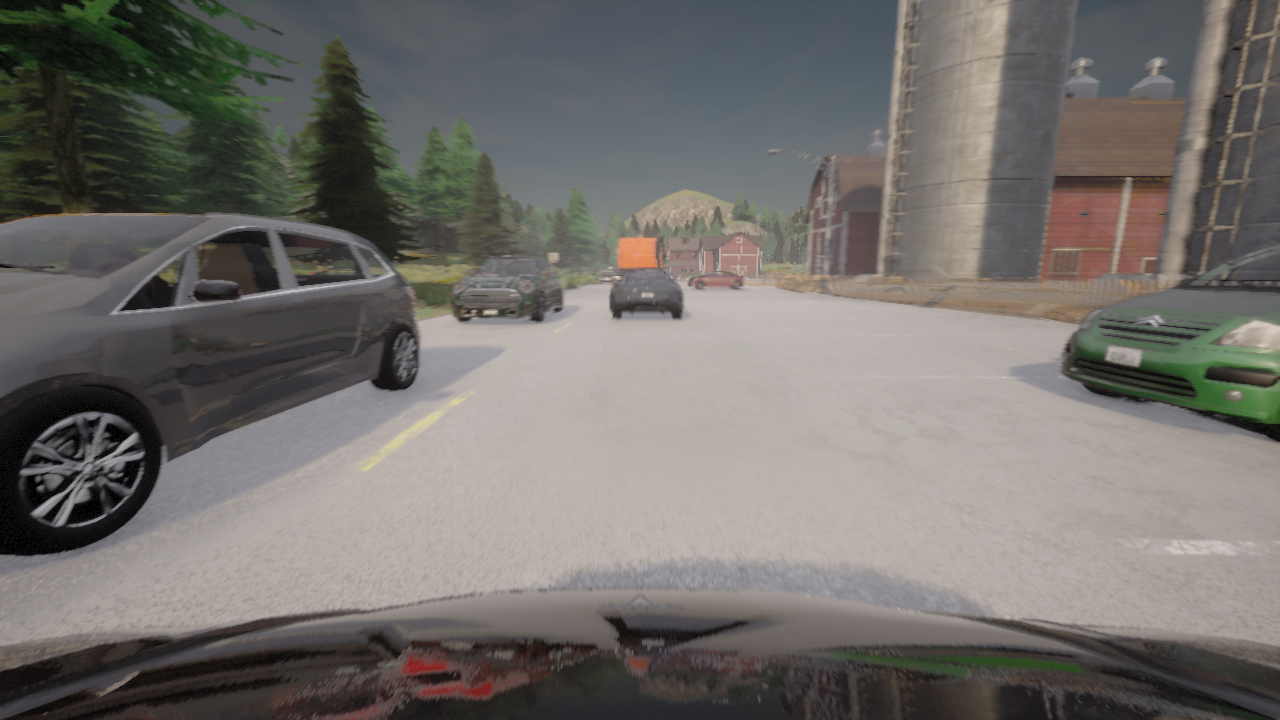cyclist: (0, 588, 1279, 719), (0, 213, 419, 555), (1058, 242, 1279, 442), (452, 254, 562, 320), (610, 267, 682, 317), (615, 236, 666, 279), (687, 271, 743, 289), (598, 271, 615, 284)
